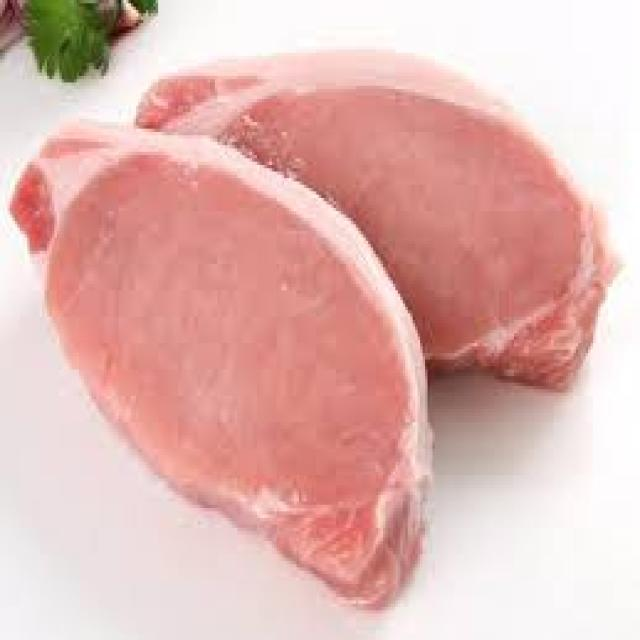Pork: (13, 127, 431, 605), (137, 55, 615, 388)
